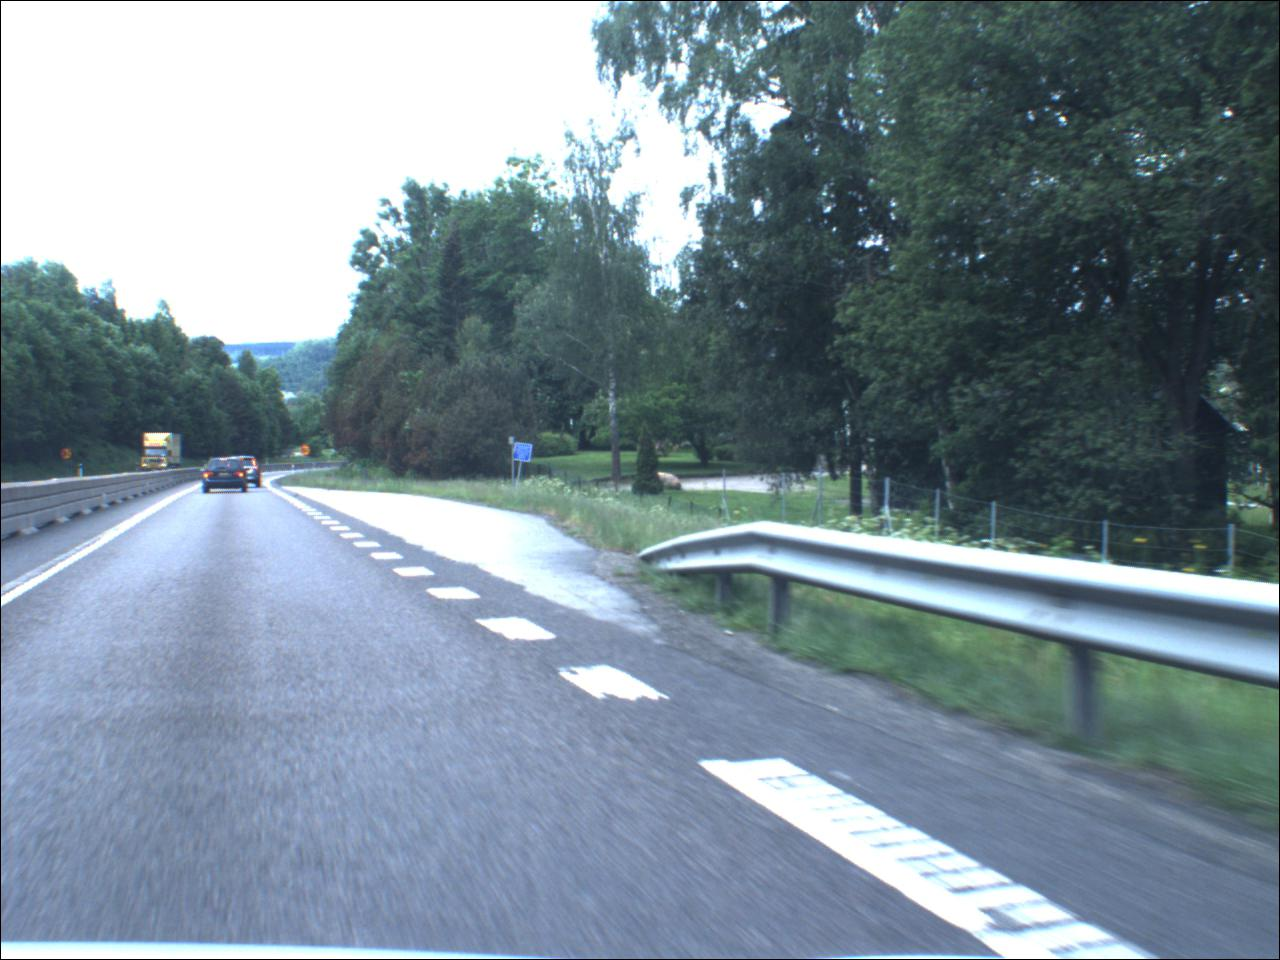80_SIGN: (61, 446, 77, 465), (302, 445, 315, 459)
